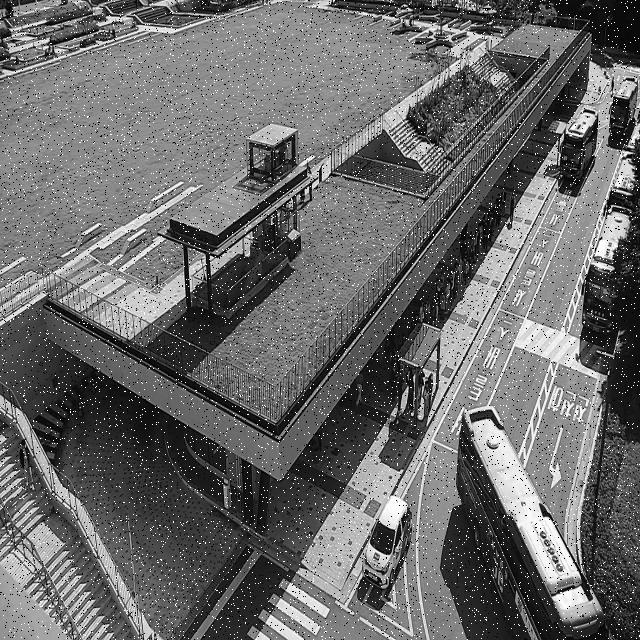queue: (414, 186, 508, 434)
